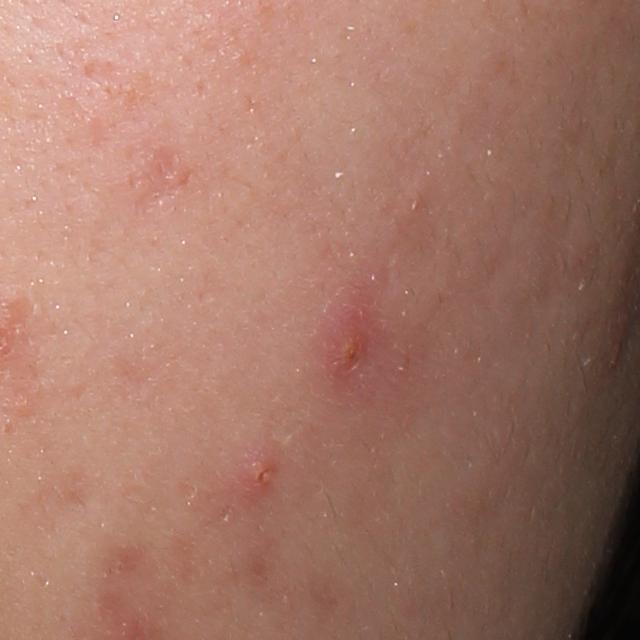atrophic_scar: (127, 145, 184, 213), (78, 57, 135, 107)
